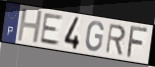4: (63, 16, 82, 51)
E: (39, 13, 65, 47)
F: (125, 25, 151, 59)
G: (84, 20, 105, 53)
H: (16, 8, 44, 44)
R: (105, 23, 127, 57)
